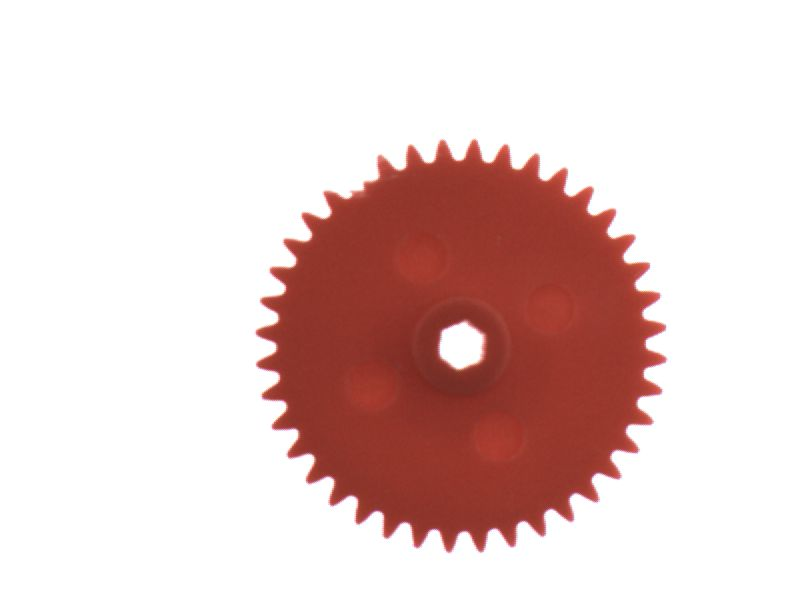defect_lack: (330, 158, 387, 208)
